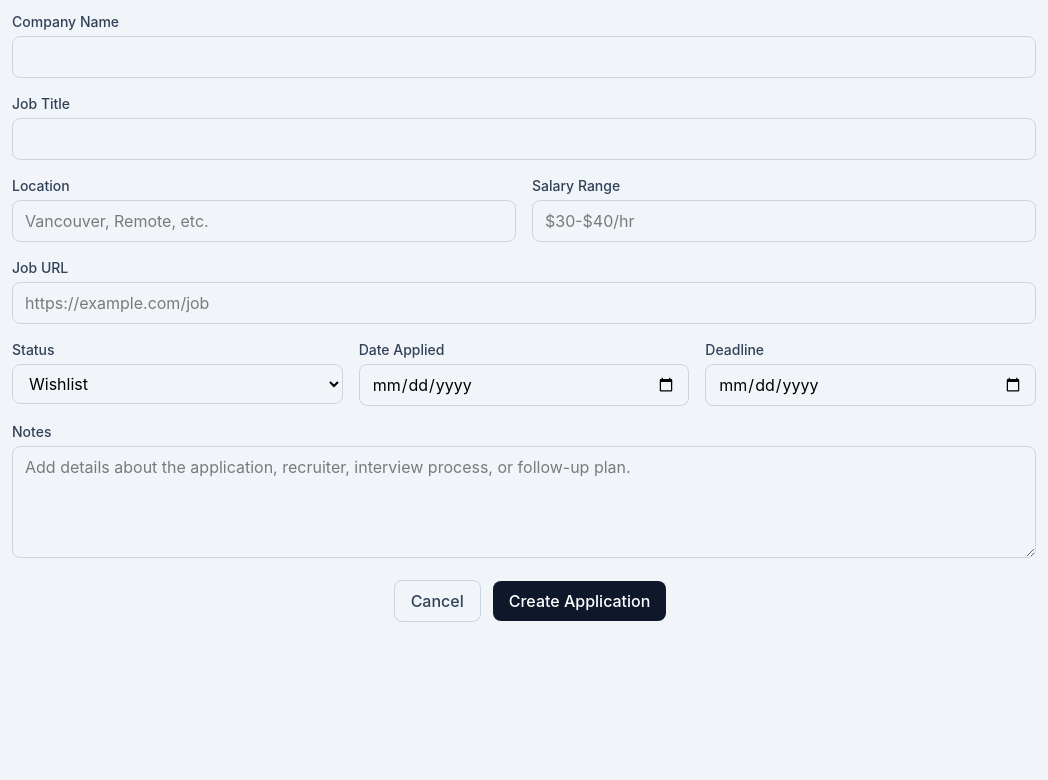
Test case: JobApplicationForm › shows validation errors when required fields are missing
Click the button "Create Application". click: (580, 601)
box: left=493, top=581, right=666, bottom=621
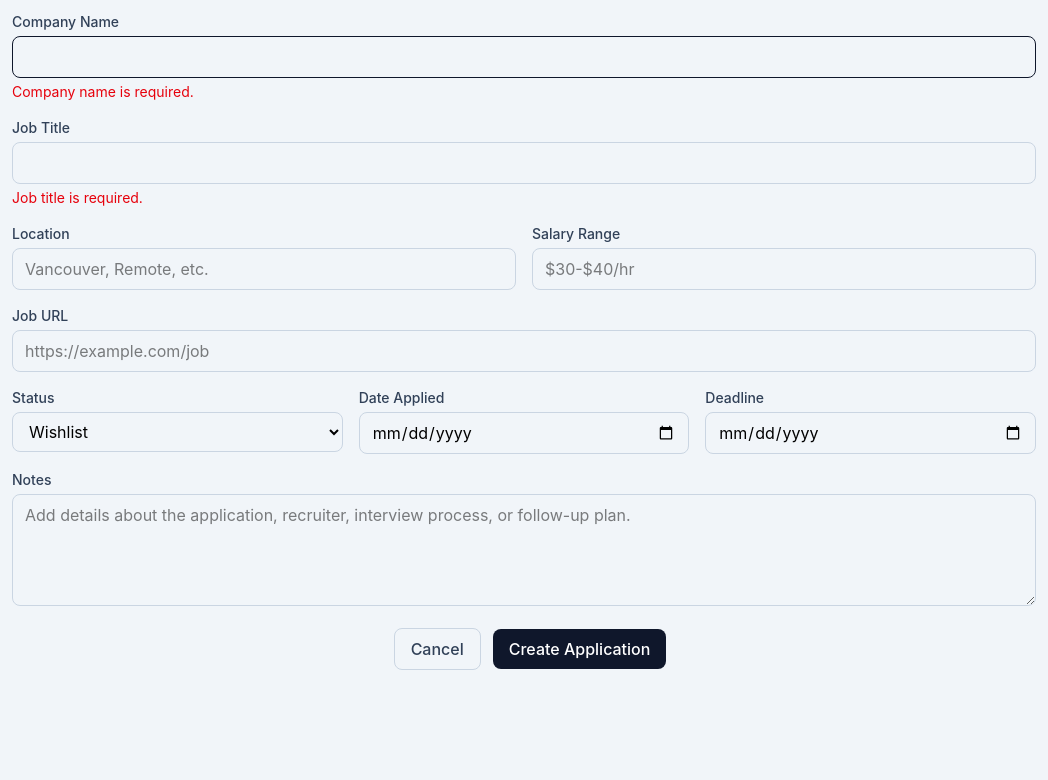
Check: the text "Company name is required." is shown, box left=12, top=83, right=194, bottom=100
Check: the text "Job title is required." is shown, box left=12, top=189, right=143, bottom=206
